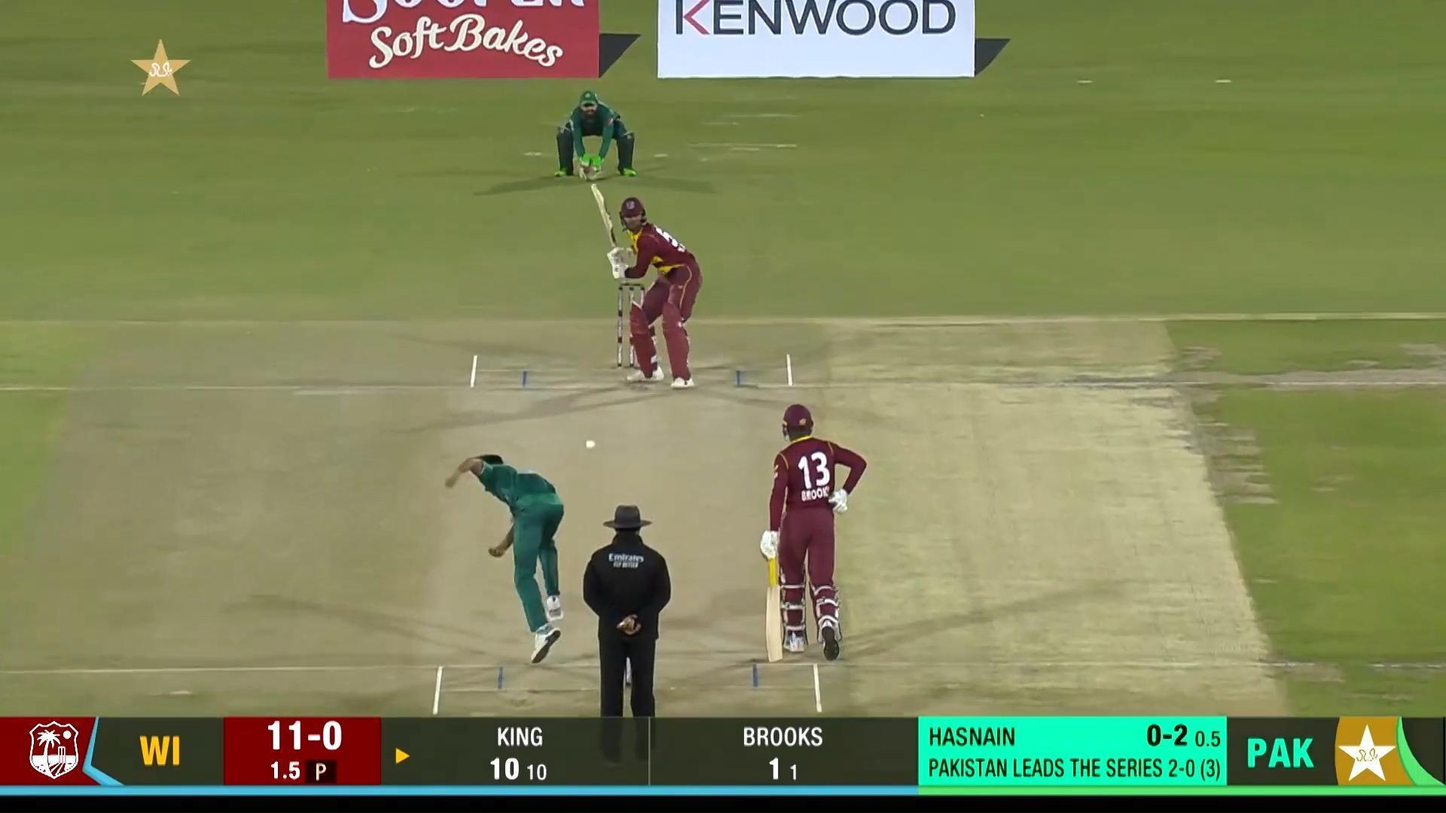BM 1: (592, 183, 703, 390)
BO: (444, 452, 568, 665)
